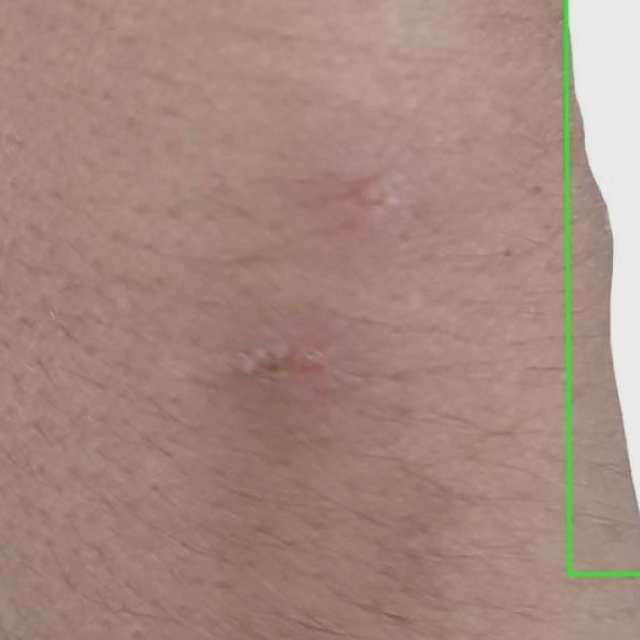Scabies: (566, 0, 639, 574)
